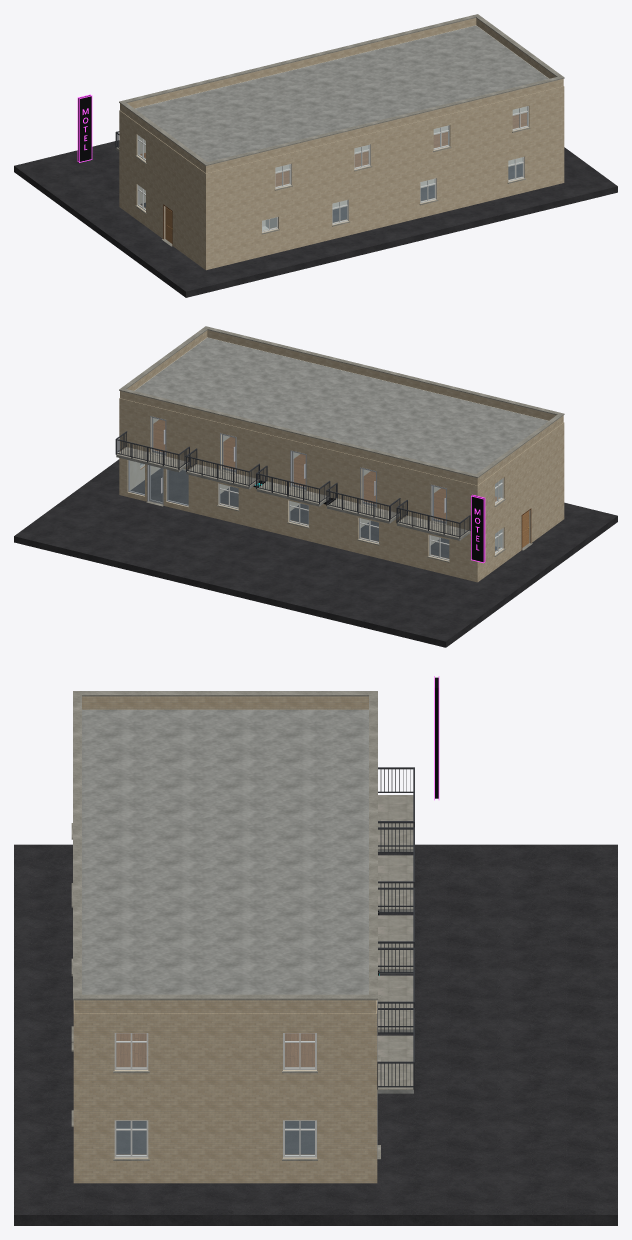
File: b_seaview_motel.gltf
3 renders of one model, top to bottom at view 1: azimuth 30°, elevation 25°; view 2: azimuth 150°, elevation 25°; view 3: azimuth 270°, elevation 25°, orthographic. The views are drawn at different scales.
Visible parts, largest first — view 1: S_seaview_motel; view 2: S_seaview_motel, D_seaview_motel_F1_S6_Door0, D_seaview_motel_F2_S0_Door0, D_seaview_motel_F2_S4_Door0, D_seaview_motel_F2_S2_Door0, D_seaview_motel_F2_S1_Door0, D_seaview_motel_F2_S3_Door0; view 3: S_seaview_motel.
Part boxes in pixels (left/top/right/bottom): S_seaview_motel: left=14, top=14, right=617, bottom=297; S_seaview_motel: left=14, top=326, right=617, bottom=647; D_seaview_motel_F1_S6_Door0: left=149, top=465, right=162, bottom=504; D_seaview_motel_F2_S0_Door0: left=151, top=417, right=165, bottom=455; D_seaview_motel_F2_S4_Door0: left=432, top=486, right=446, bottom=523; D_seaview_motel_F2_S2_Door0: left=292, top=451, right=305, bottom=489; D_seaview_motel_F2_S1_Door0: left=222, top=434, right=235, bottom=472; D_seaview_motel_F2_S3_Door0: left=362, top=468, right=375, bottom=506; S_seaview_motel: left=14, top=676, right=617, bottom=1225.
Size of the model in its own units: 29 by 7.16 by 20.
22 materials, 11 textured.
